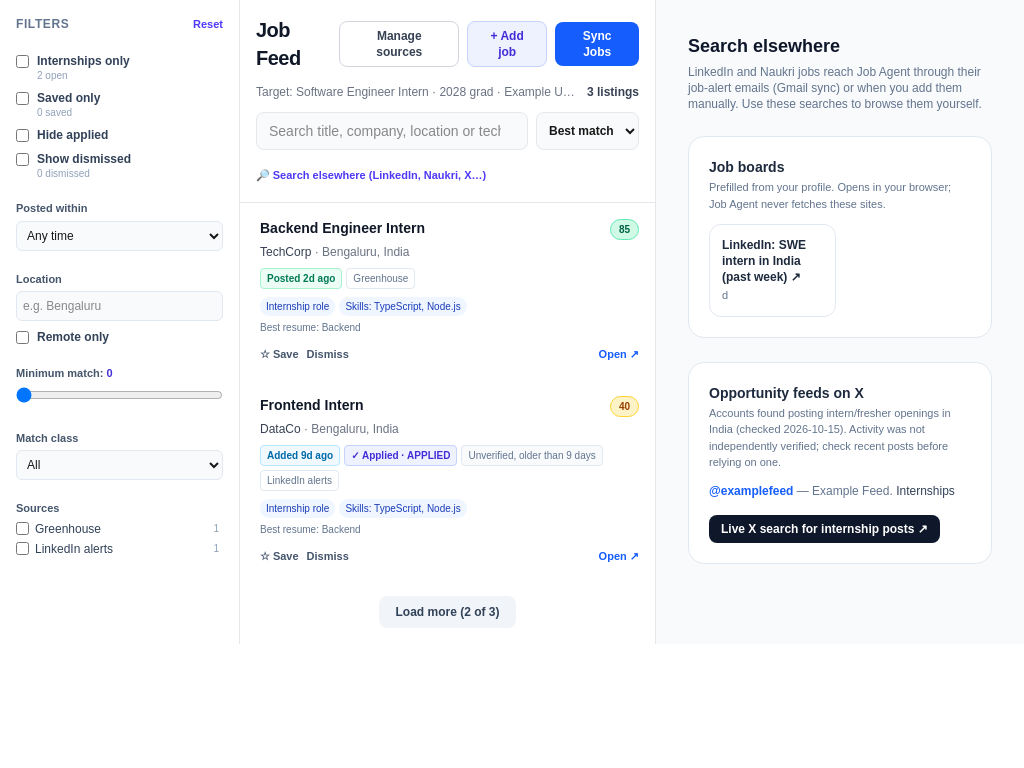
JobDiscovery › loads more and dismisses jobs
The width and height of the screenshot is (1024, 768).
Expected: the button with test id "job-item-1" is shown, [260,219,639,335]
Click the button "Load more (2 of 3)" at (448, 612), box [380,596,516,628]
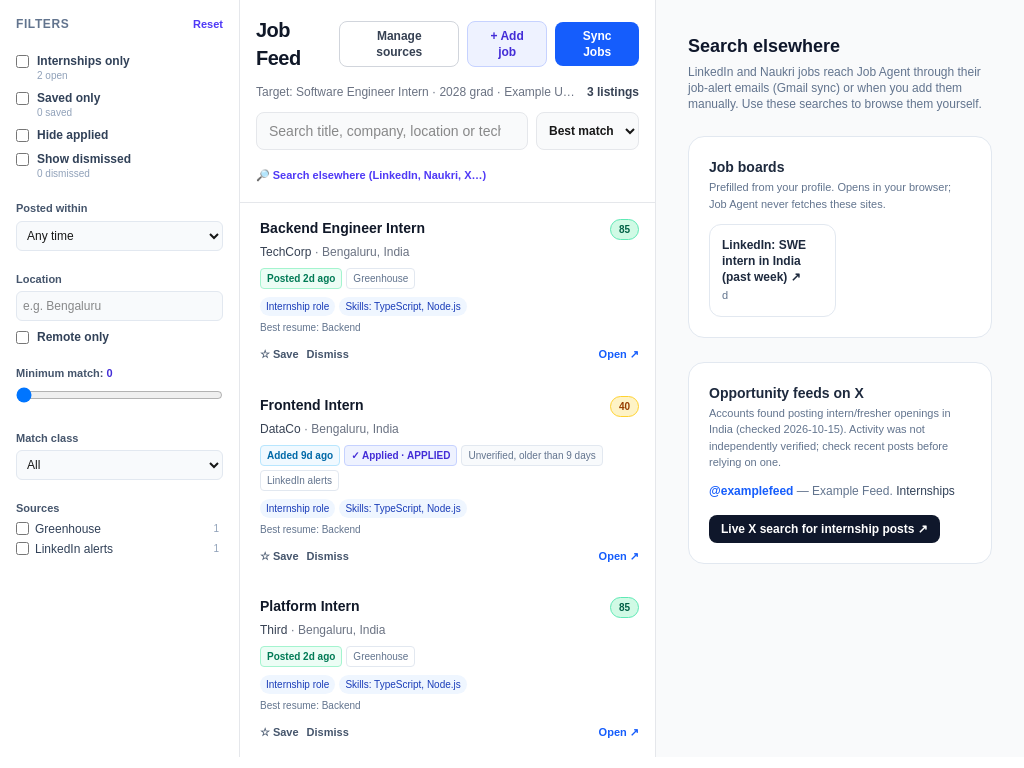
Result: the button with test id "job-item-3" is shown at [260,597,639,713]
Click the button with aria-label "Dismiss Backend Engineer Intern" at (328, 354), box [307,346,349,362]
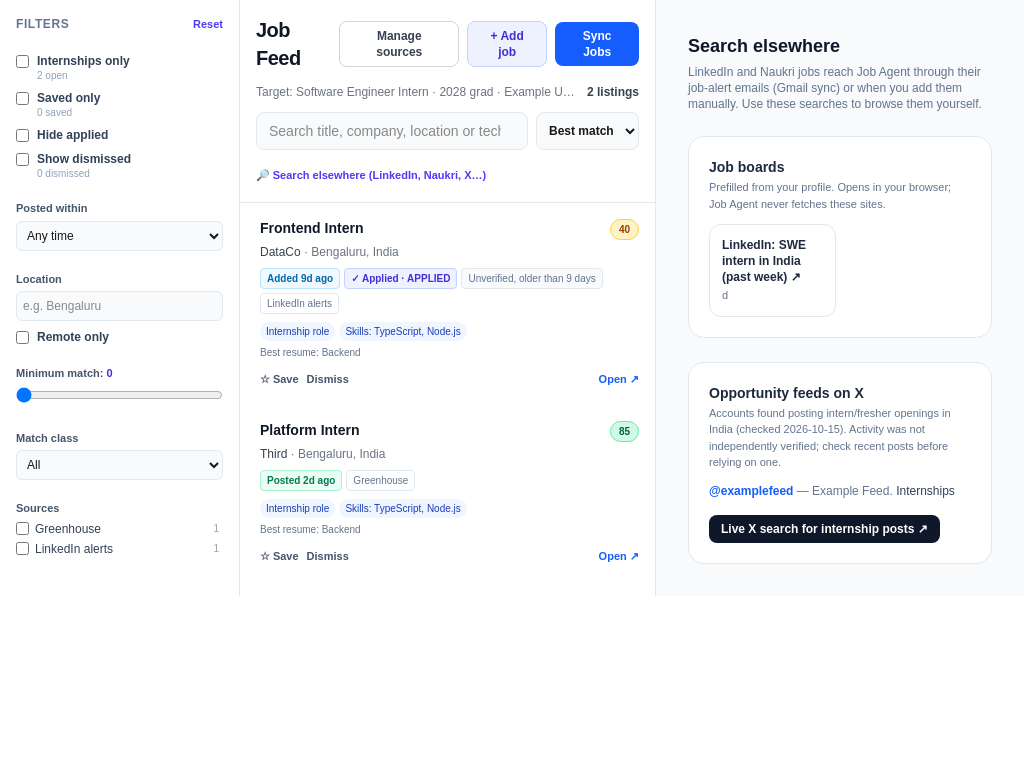
Result: the button with test id "job-item-1" is gone
